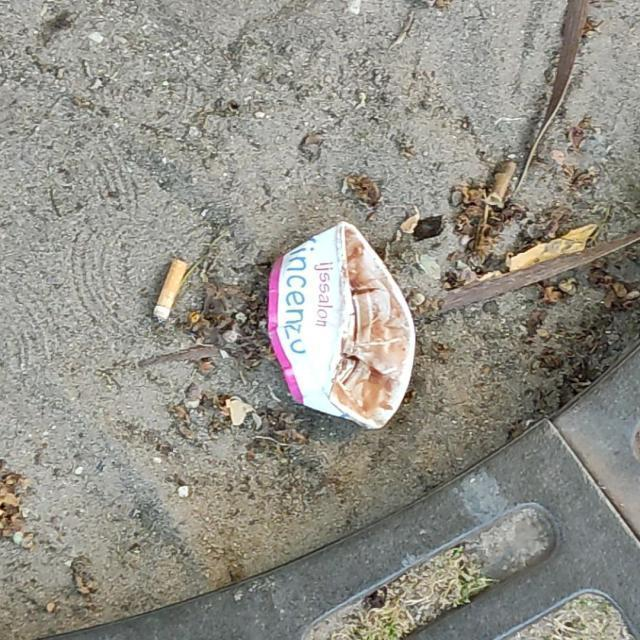Paper: (264, 219, 418, 433)
